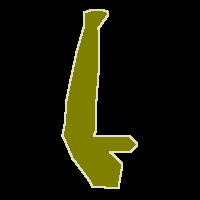tie: (62, 10, 137, 188)
